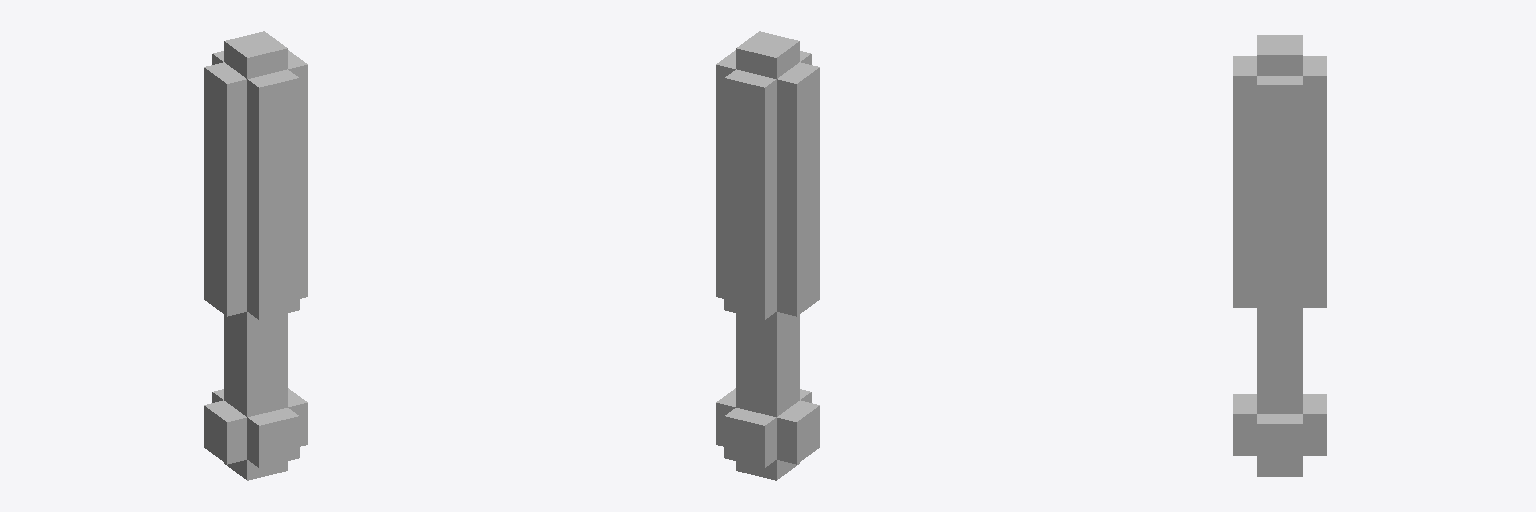
File: baseball bat.obj
3 views of the same model, side by side, from view 1: azimuth 30°, elevation 25°; view 2: azimuth 150°, elevation 25°; view 3: azimuth 270°, elevation 25° (orthographic).
Parts seen in each view (by area): view 1: object 1; view 2: object 1; view 3: object 1.
Part boxes in pixels (left/top/right/bottom): object 1: left=204, top=31, right=307, bottom=480; object 1: left=716, top=31, right=819, bottom=480; object 1: left=1233, top=35, right=1326, bottom=476.
Bounding box in the file's own units: 0.4 × 2 × 0.4.